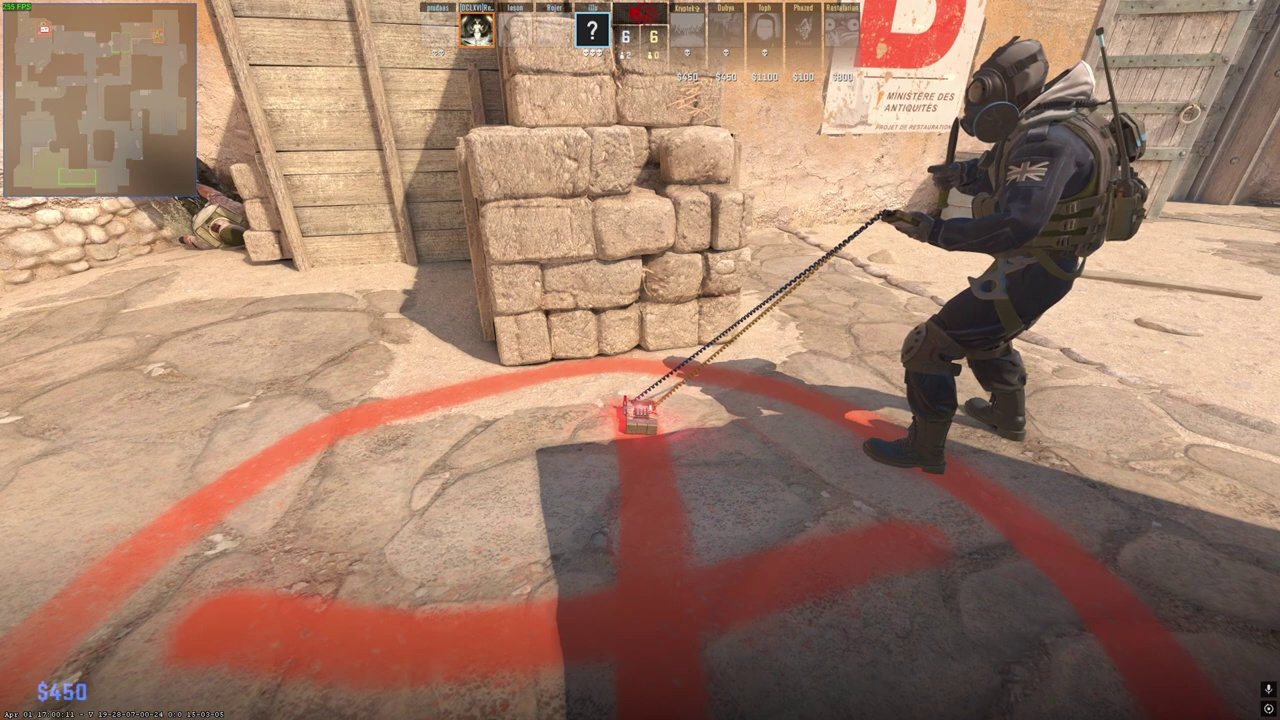CT: (862, 38, 1100, 474)
